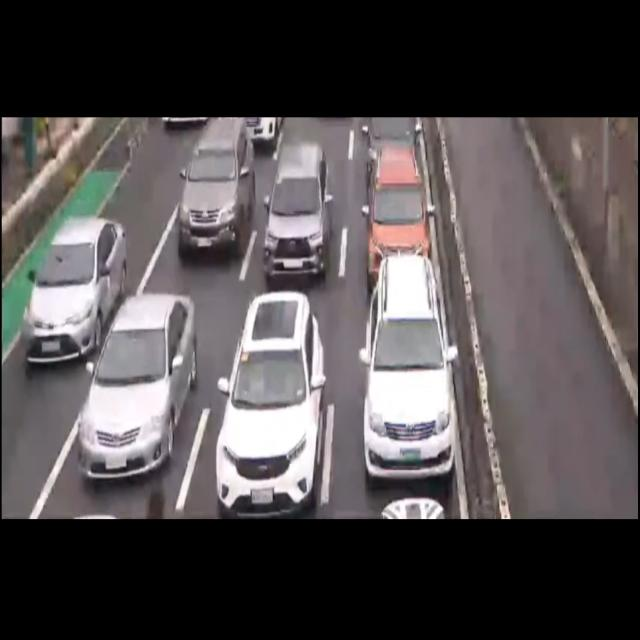SUV: (216, 295, 327, 514), (361, 262, 453, 488), (361, 148, 438, 298), (179, 114, 249, 258), (266, 144, 331, 278)
Sedan: (70, 290, 198, 484), (26, 216, 126, 357)
